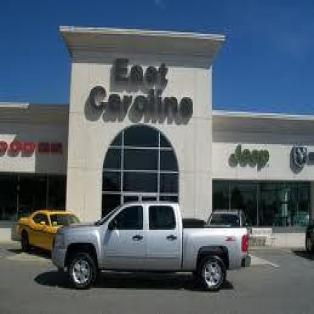Auto: (55, 202, 251, 296)
